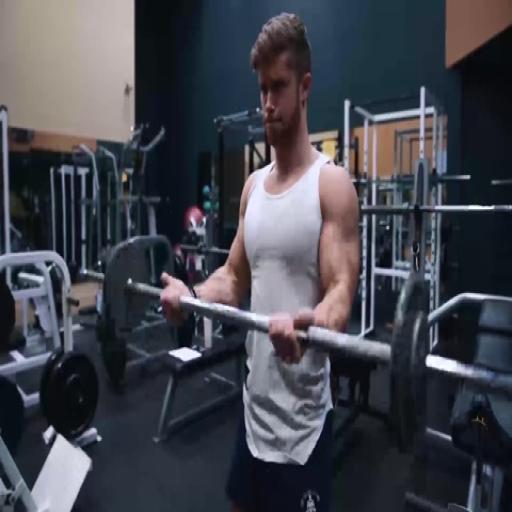exercise: (157, 10, 364, 511)
